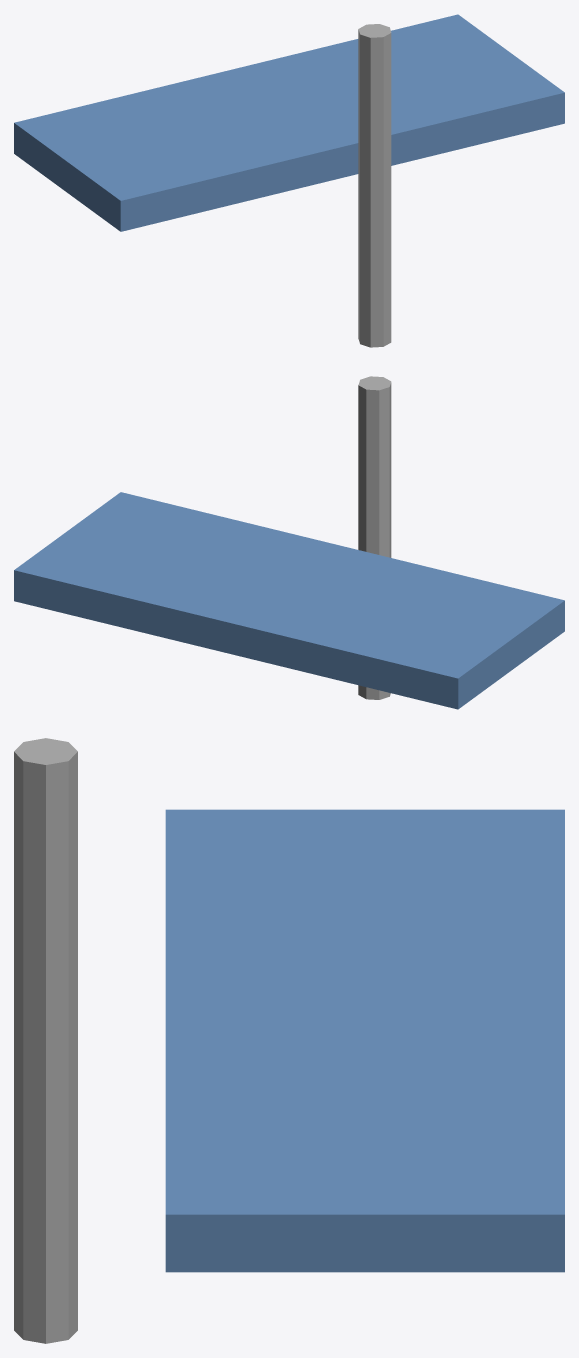
Rendered from safehouse_sign.glb.
3 views of the same model, one above another, from view 1: azimuth 30°, elevation 25°; view 2: azimuth 150°, elevation 25°; view 3: azimuth 270°, elevation 25° (orthographic). The views are drawn at different scales.
Visible parts, largest first — view 1: sign, post; view 2: sign, post; view 3: sign, post.
Part boxes in pixels (x1,y1,x2,y2): sign: (14,14,564,231); post: (358,24,391,347); sign: (14,492,564,709); post: (358,376,391,699); sign: (165,809,564,1272); post: (14,738,77,1343).
Bounding box in the file's own units: 1.2 × 0.7998 × 0.69.
